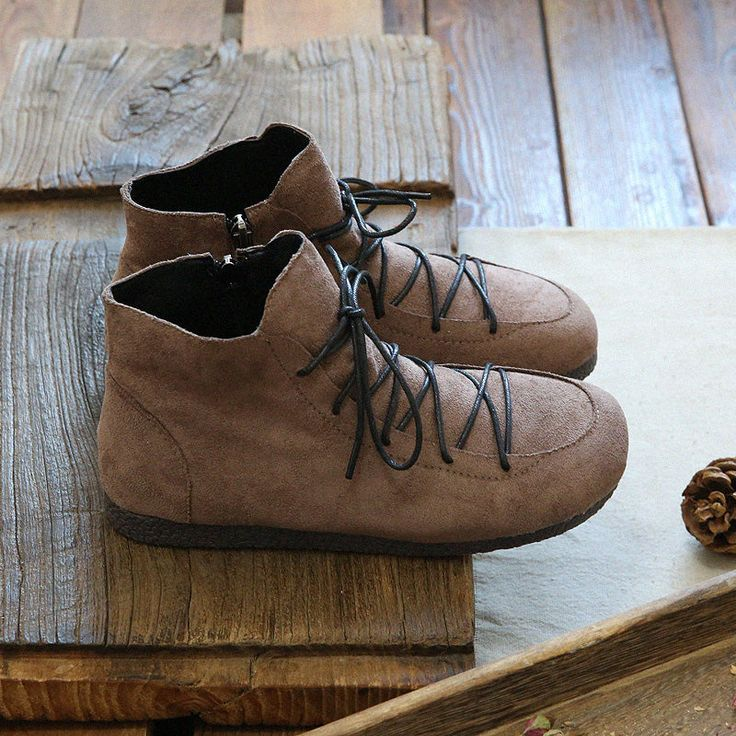gamuza: (96, 122, 630, 543)
